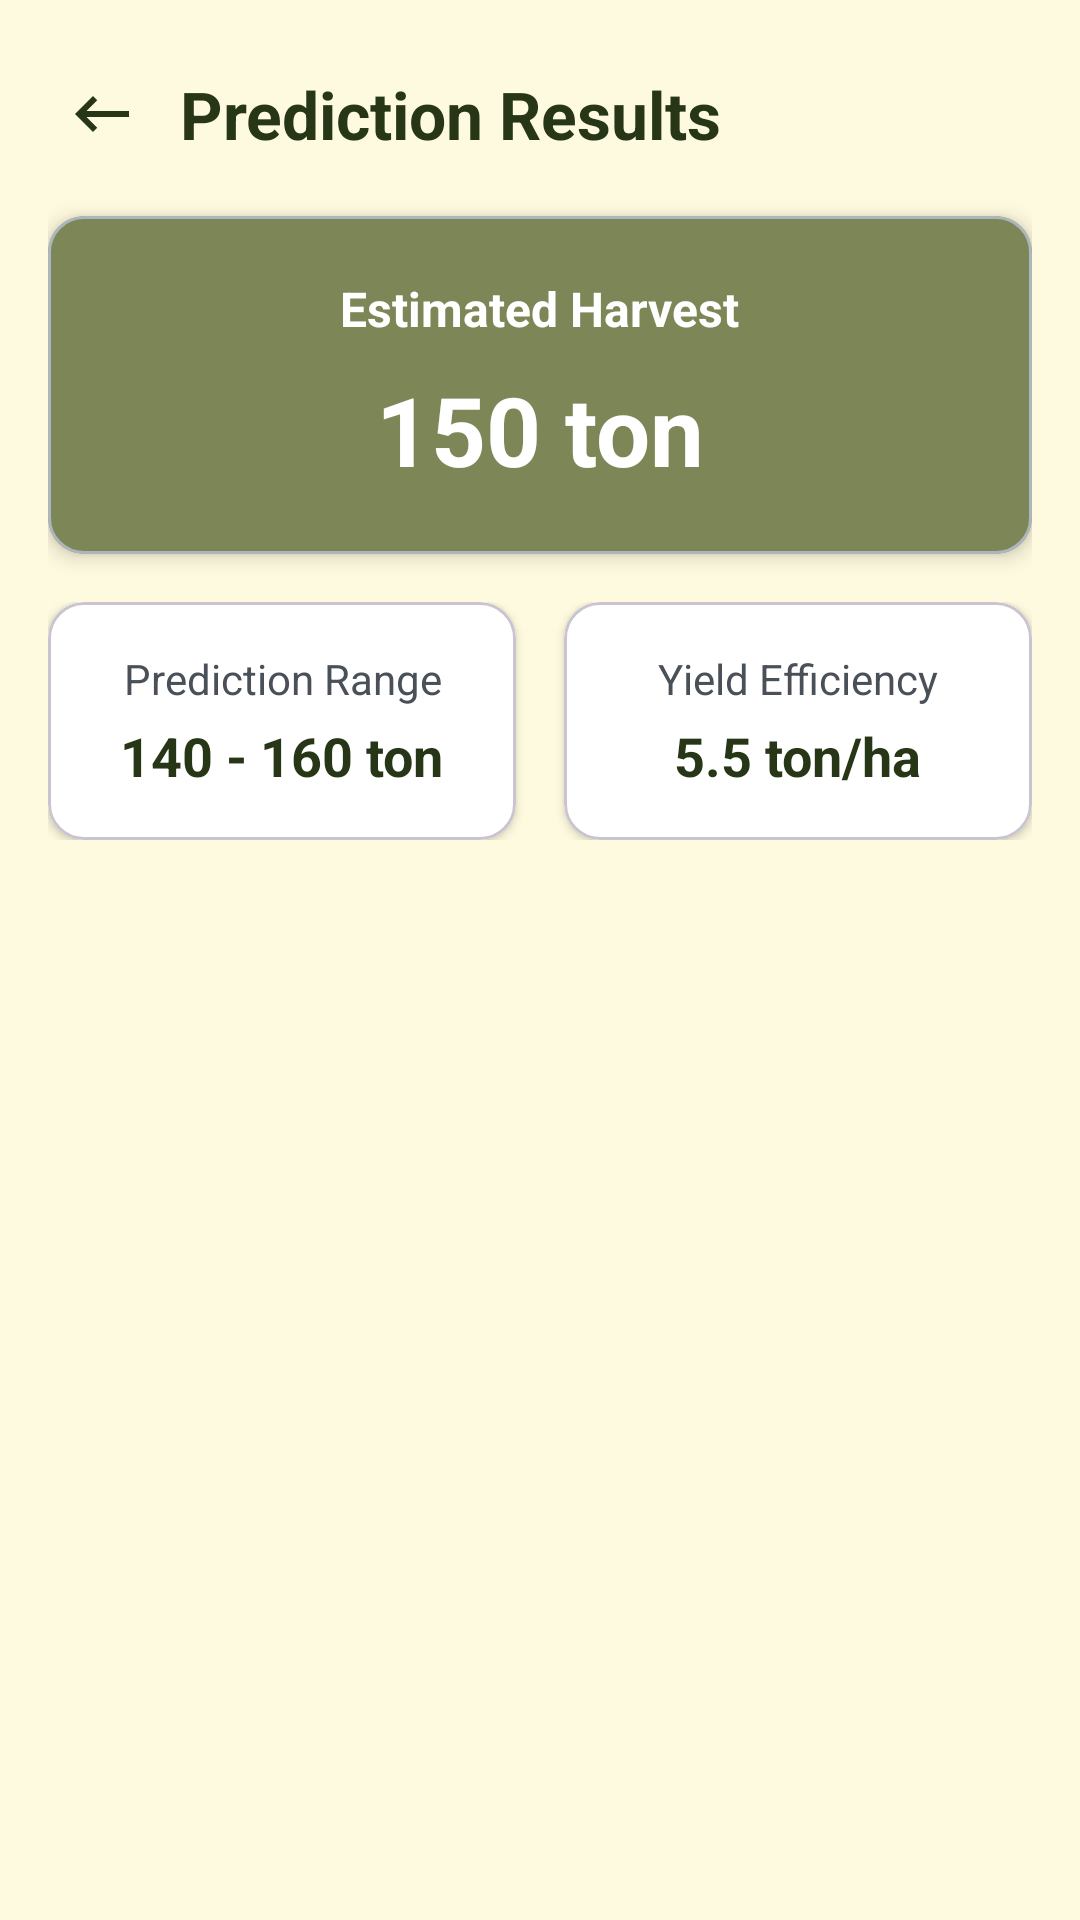

Named icons in this screenshot (1080 × 1920) and their bounding boxes, (x1, y1, x2, y2):
Back Button: (75, 96, 129, 132)
